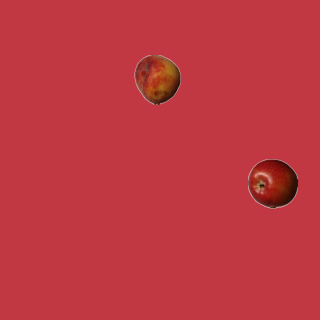Apple Braeburn: (247, 158, 297, 208)
Peach: (132, 54, 182, 104)
